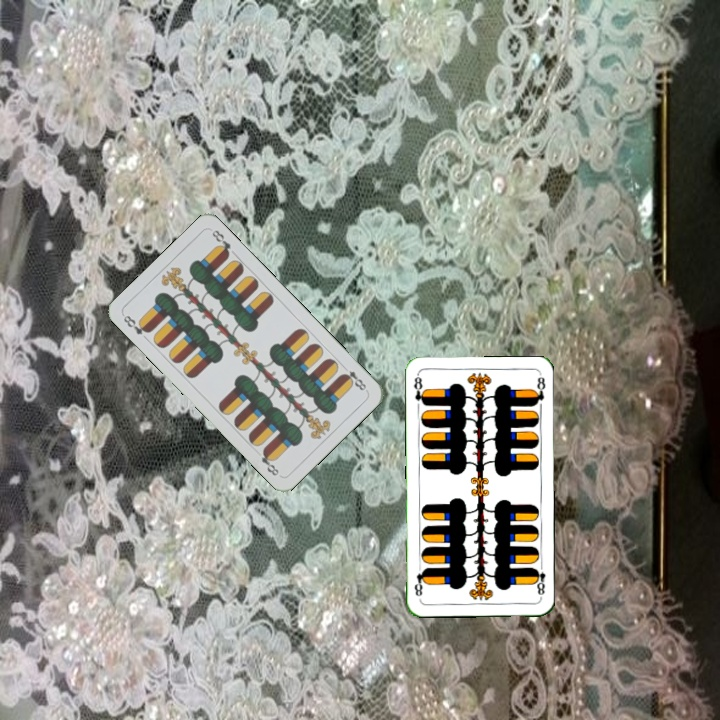E8: (338, 361, 370, 394), (119, 311, 153, 337), (530, 560, 548, 597), (410, 372, 428, 408)
